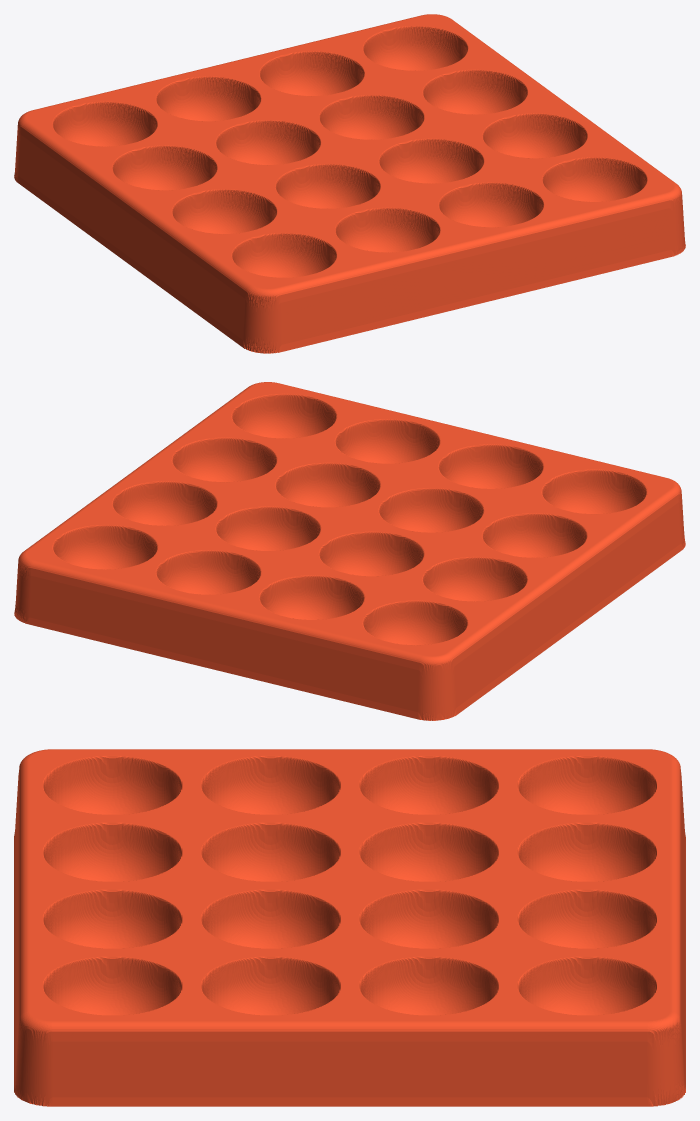
The model's file is mold.glb.
The picture shows the model from 3 angles, top to bottom: view 1: azimuth 30°, elevation 25°; view 2: azimuth 150°, elevation 25°; view 3: azimuth 270°, elevation 25°; orthographic projection. The views are drawn at different scales.
Visible parts, largest first — view 1: geometry_0; view 2: geometry_0; view 3: geometry_0.
Part boxes in pixels (bbox=[...]): geometry_0: bbox=[14, 14, 685, 353]; geometry_0: bbox=[14, 382, 685, 720]; geometry_0: bbox=[14, 749, 685, 1106].
Bounding box in the file's own units: 0.1569 × 0.0204 × 0.1569.
